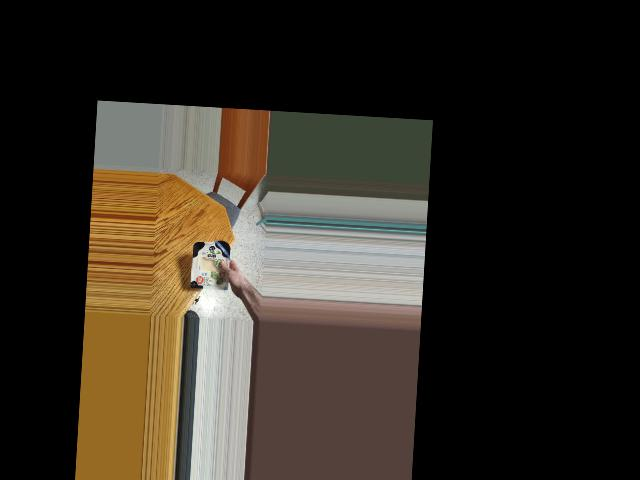cheese: (190, 239, 233, 293)
